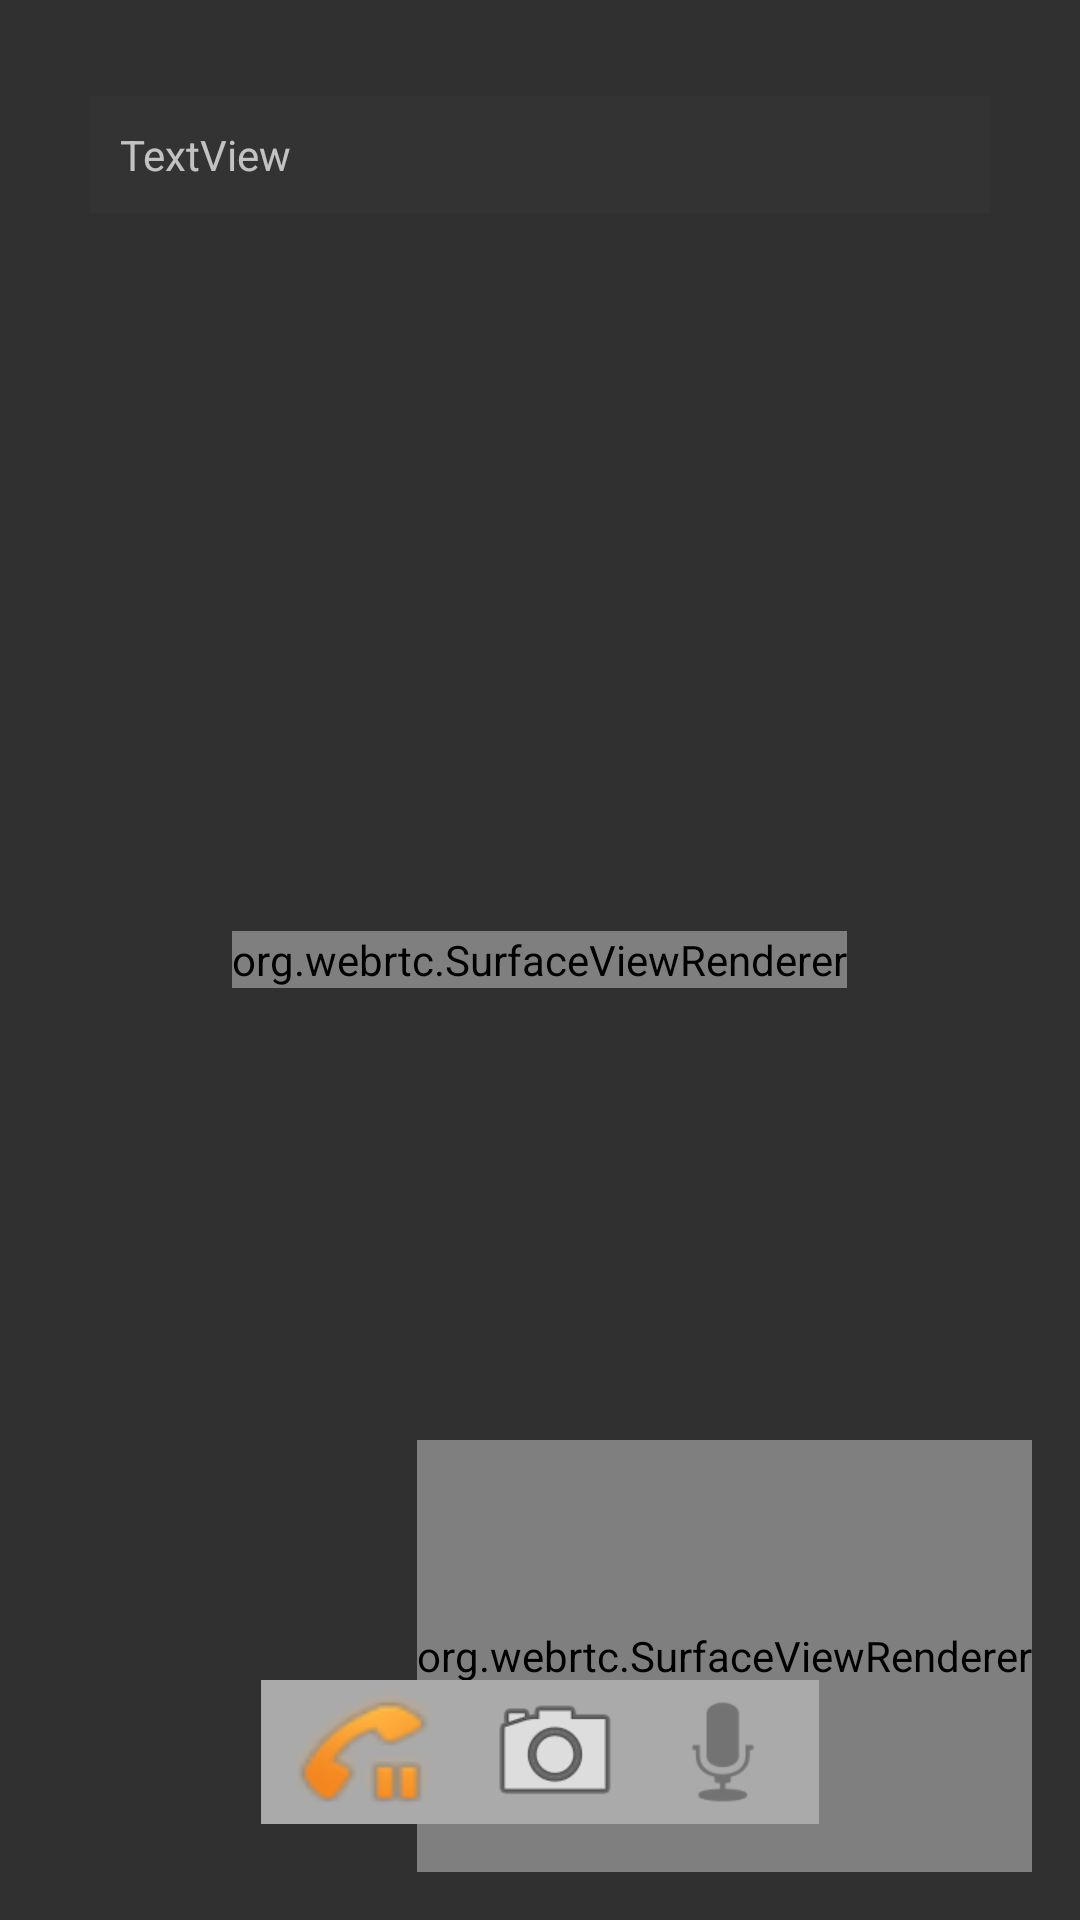

Icon click points for this 1080×1920 phone screenshot, format (x=x, y=y):
Switch Front/Back Camera: (x=555, y=1750)
Toggle Mic ON/OFF: (x=722, y=1752)
